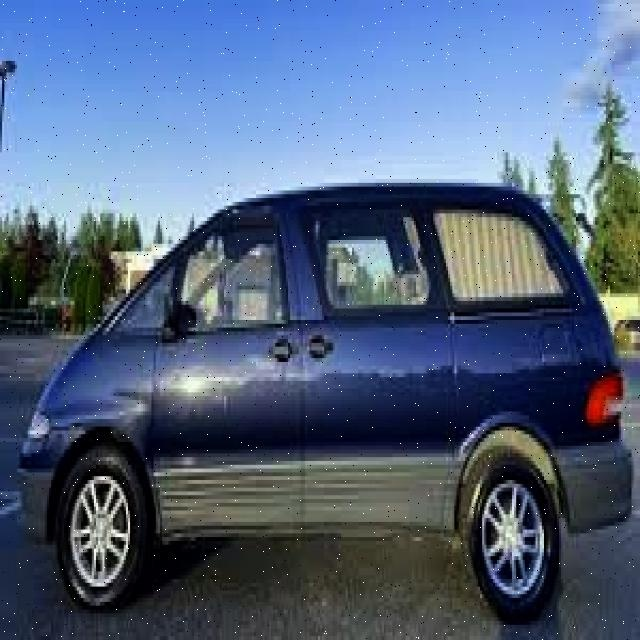Van: (23, 183, 630, 625)
